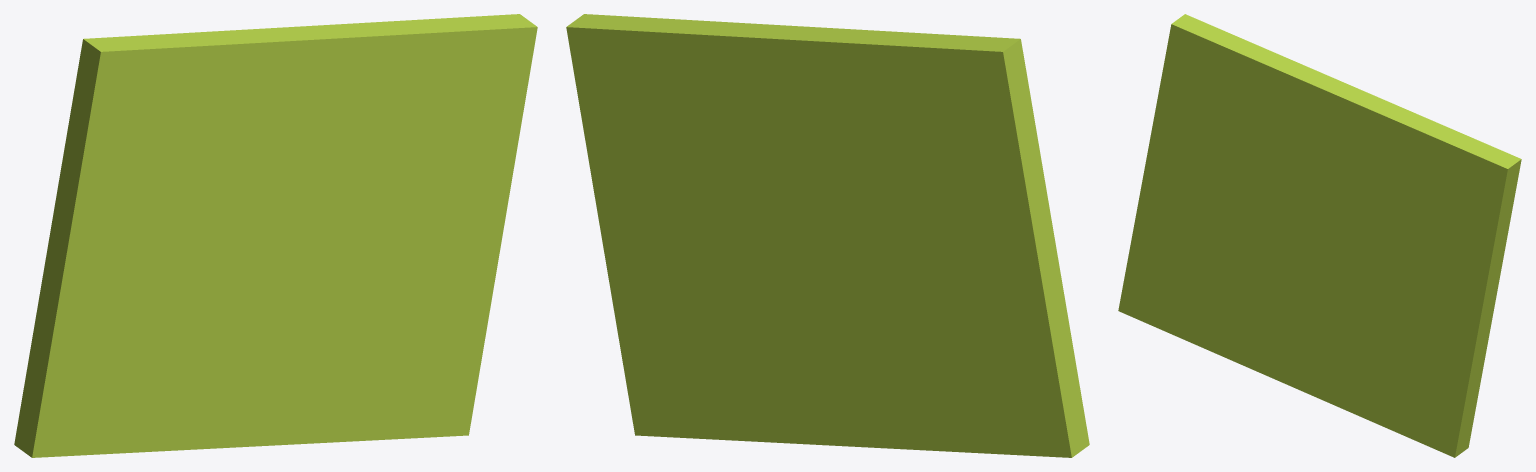
3 views of the same model, side by side, from view 1: azimuth 30°, elevation 25°; view 2: azimuth 150°, elevation 25°; view 3: azimuth 330°, elevation 25° (orthographic). The views are drawn at different scales.
Visible parts, largest first — view 1: osm-way27917482-F3; view 2: osm-way27917482-F3; view 3: osm-way27917482-F3.
Part boxes in pixels (box(x1,y1,x2,y2)): osm-way27917482-F3: box(14, 14, 537, 457); osm-way27917482-F3: box(566, 14, 1089, 457); osm-way27917482-F3: box(1118, 14, 1521, 457).
Bounding box in the file's own units: 2.45 × 2.19 × 0.15.
